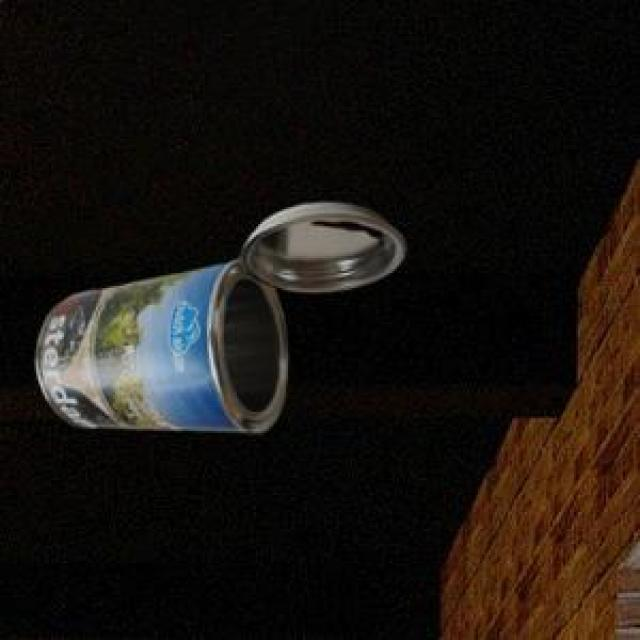logam: (33, 199, 402, 430)
